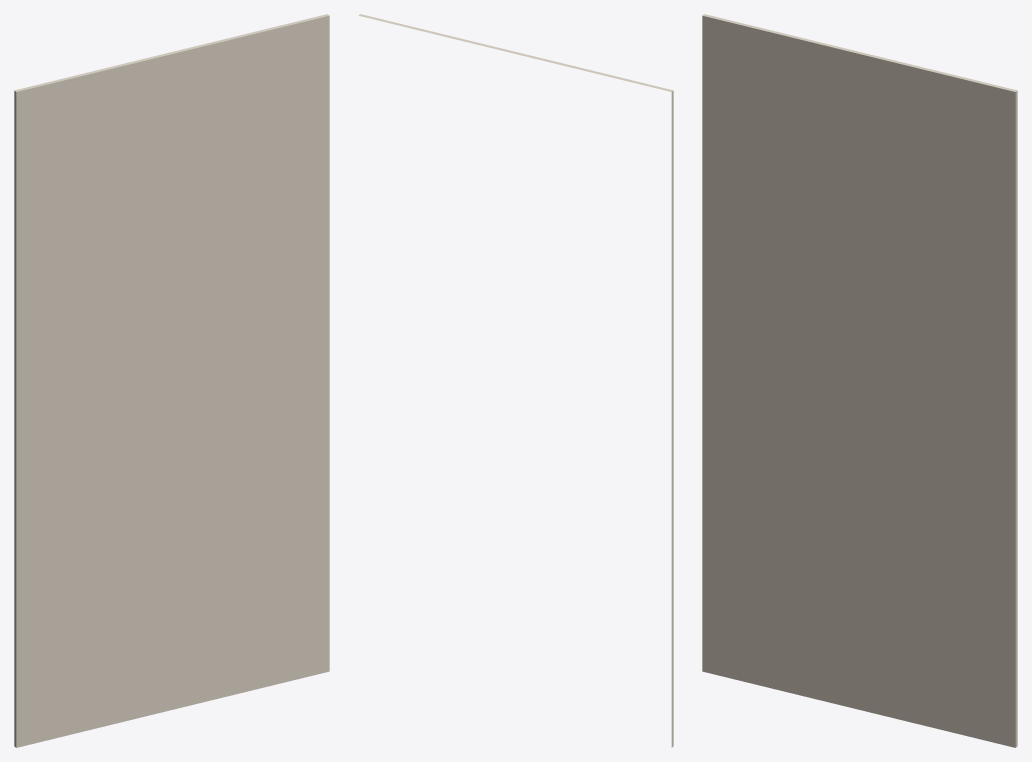
File: wall.glb
3 views of the same model, side by side, from view 1: azimuth 30°, elevation 25°; view 2: azimuth 150°, elevation 25°; view 3: azimuth 330°, elevation 25° (orthographic).
Visible parts, largest first — view 1: Cube.010; view 2: Cube.010; view 3: Cube.010.
Boxes of the visible parts, x1,y1,x2,y2 form: Cube.010: [14, 14, 329, 747]; Cube.010: [358, 14, 673, 747]; Cube.010: [702, 14, 1017, 747].
Size of the model in its own units: 1.73 by 3.45 by 0.0215.
